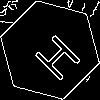H: (25, 25, 84, 84)
